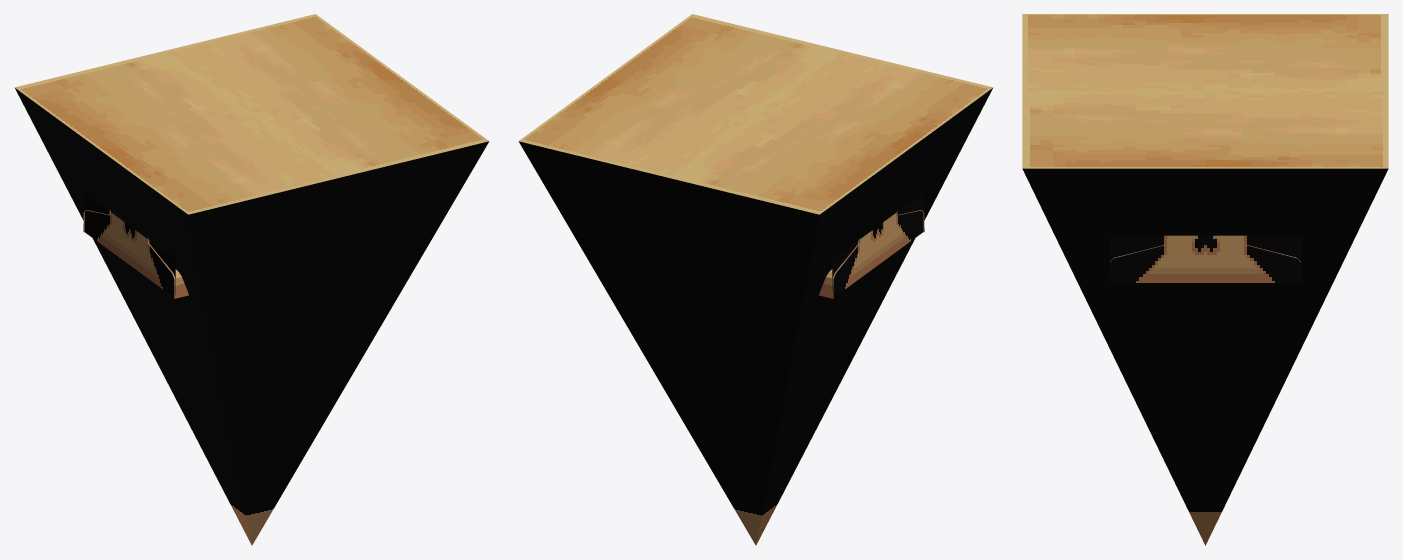
The picture shows the model from 3 angles, left to right: view 1: azimuth 30°, elevation 25°; view 2: azimuth 150°, elevation 25°; view 3: azimuth 270°, elevation 25°; orthographic projection. The views are drawn at different scales.
Parts seen in each view (by area): view 1: 3594kg_05_ta0; view 2: 3594kg_05_ta0; view 3: 3594kg_05_ta0.
Part boxes in pixels (<box>): 3594kg_05_ta0: <box>14,14,489,545</box>; 3594kg_05_ta0: <box>518,14,993,545</box>; 3594kg_05_ta0: <box>1022,14,1388,545</box>.
Bounding box in the file's own units: 1.95 × 2.67 × 1.95.
4 materials, 4 textured.
